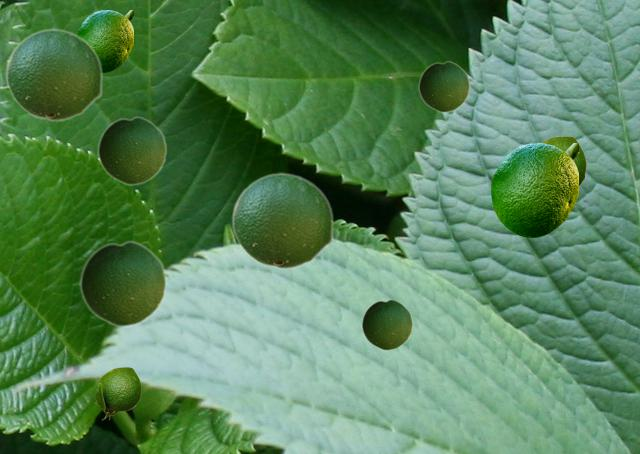dalandan: (231, 172, 333, 269), (5, 28, 102, 121), (491, 143, 577, 236), (79, 240, 166, 327), (97, 115, 166, 185), (76, 10, 132, 71), (418, 60, 469, 112), (361, 298, 412, 350), (94, 367, 140, 419), (541, 136, 585, 188)
